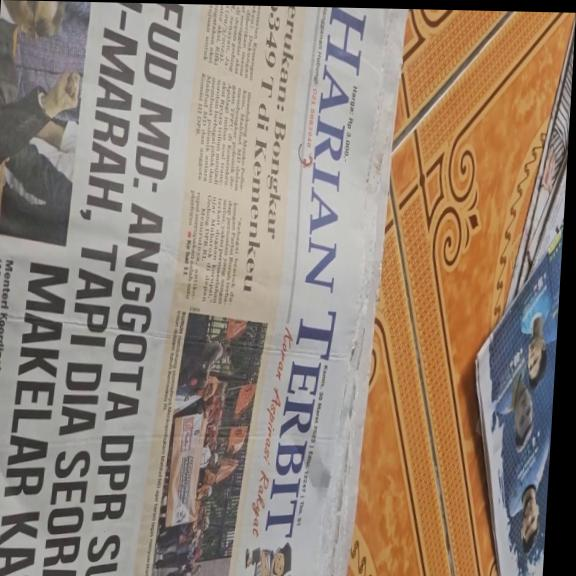Kertas: (0, 4, 381, 572)
